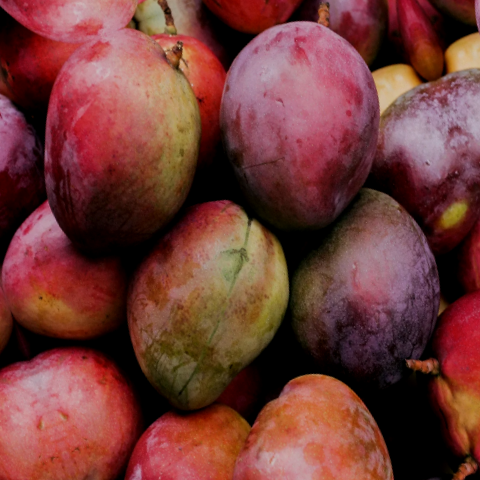mango: (0, 5, 259, 287), (71, 172, 341, 423), (177, 0, 422, 255), (243, 166, 480, 420)
